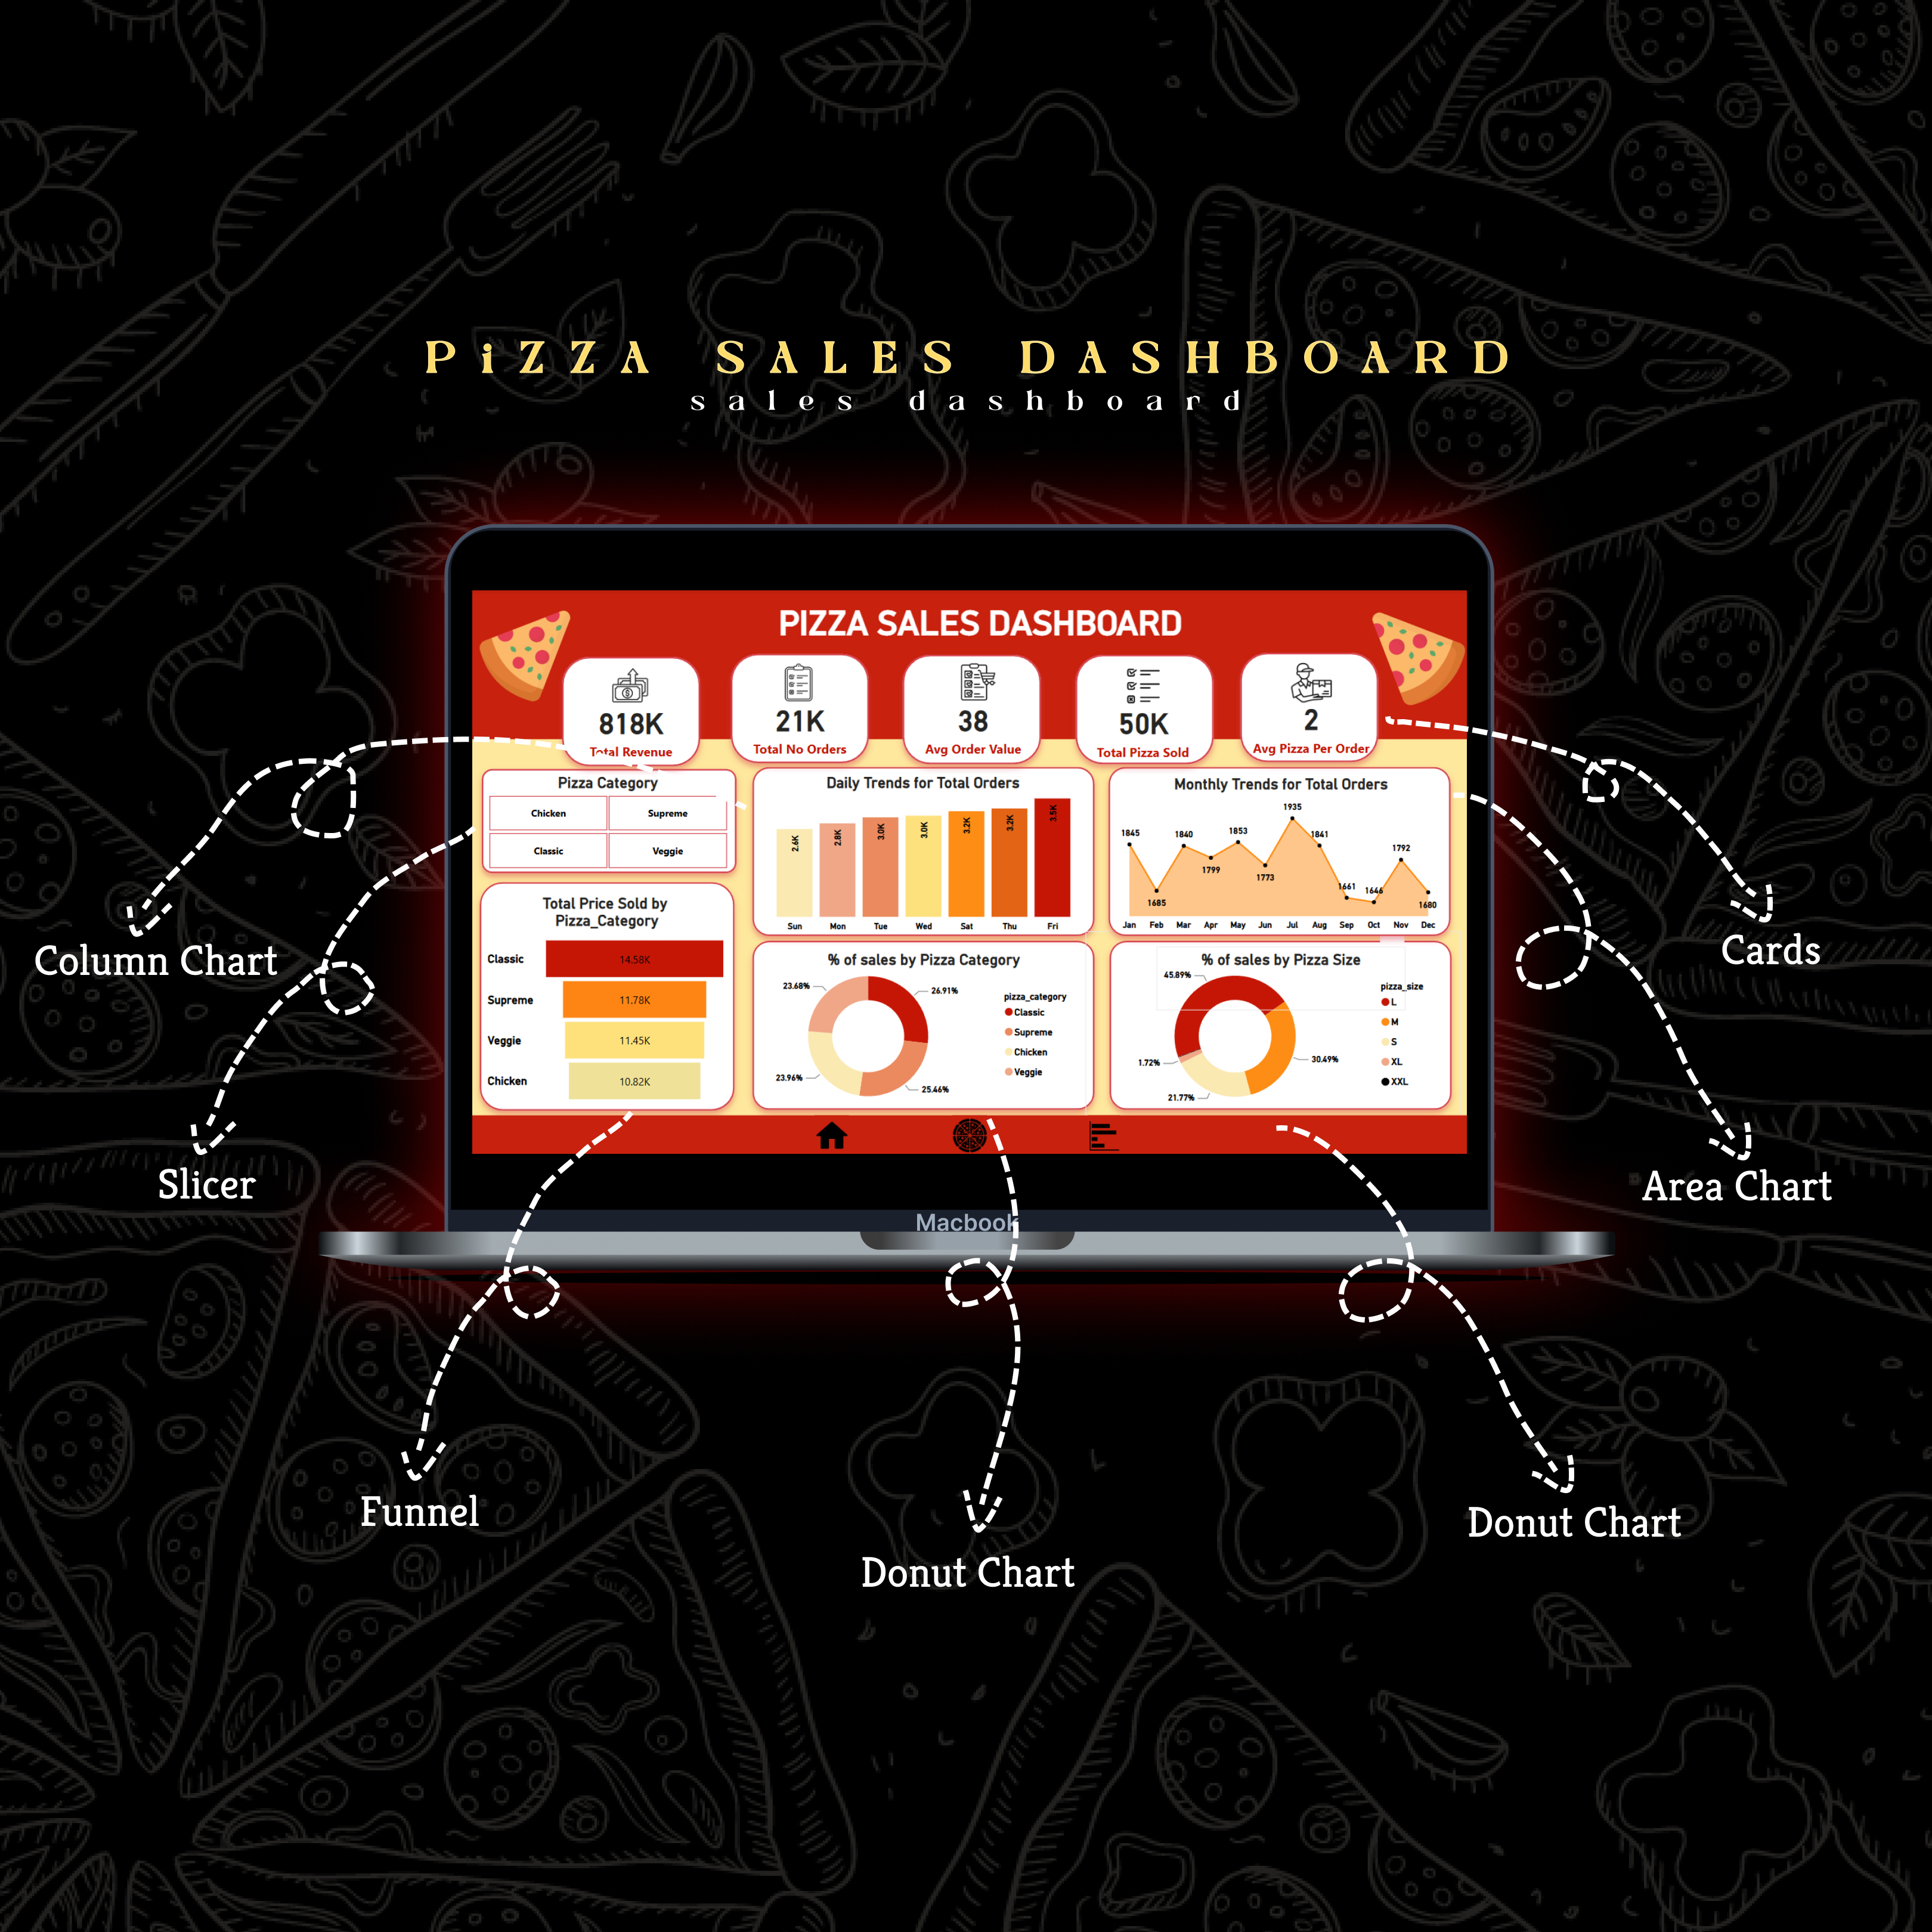

What the dashboard file says about the page in this screenshot:
{"tool":"powerbi","page":{"name":"Pizza Hut Sales Dashboard","canvas":[1280,720],"ordinal":0},"visuals":[{"type":"shape","box":[0,0,1280,190],"z":0},{"type":"shape","box":[6.9,215.9,347.8,156.7],"z":0,"group":"g5"},{"type":"image","box":[9,4.5,131.2,160],"z":1000},{"type":"group","id":"g1","title":"Group 1","box":[541.7,70,199.7,163.4],"z":1000,"group":"g14"},{"type":"shape","box":[5,359,348.3,315],"z":1000,"group":"g6"},{"type":"textbox","box":[392,12,544,66],"z":2000},{"type":"shape","box":[110,73.8,199.7,163.4],"z":2500,"group":"g3"},{"type":"group","id":"g2","title":"Group 2","box":[333.7,433.6,476.6,239.1],"z":3000},{"type":"shape","box":[970.3,68.4,199.7,163.4],"z":3500,"group":"g15"},{"type":"shape","box":[541.7,70,200,163.3],"z":3500,"group":"g1"},{"type":"shape","box":[761.9,70,199.7,163.4],"z":3500,"group":"g8"},{"type":"image","box":[1142.3,20.3,135,133.3],"z":4000},{"type":"shape","box":[323.6,69.8,199.7,163.4],"z":4000,"group":"g10"},{"type":"group","id":"g3","title":"Group 1","box":[110,73.8,200,163.3],"z":4000,"group":"g13"},{"type":"group","id":"g4","title":"Group 3","box":[351.2,212.9,458.4,239.1],"z":5000},{"type":"funnel","title":"Total Pizza Sold by Pizza_Caegory","fields":{"Y":["CountNonNull(pizza_sales.order_id)"],"Category":["pizza_sales.pizza_category"]},"box":[21.7,434.7,315,222.6],"z":5000,"group":"g6"},{"type":"card","fields":{"Values":["pizza_sales.Avg Order Value"]},"box":[564,115.4,158.9,115],"z":6000,"group":"g14"},{"type":"group","id":"g5","title":"Group 4","box":[3.4,215.9,351.3,156.7],"z":6000},{"type":"group","id":"g6","title":"Group 5","box":[5,359,348.3,315],"z":7000},{"type":"group","id":"g7","title":"Group 7","box":[786.6,433.4,476.7,240],"z":8000},{"type":"group","id":"g8","title":"Group 1","box":[761.9,70,199.7,163.4],"z":9000,"group":"g12"},{"type":"card","fields":{"Values":["pizza_sales.Total Orders"]},"box":[130.4,121.2,157.4,113.5],"z":9000,"group":"g13"},{"type":"group","id":"g9","title":"Group 8","box":[803.6,212.9,458.4,239.1],"z":9000},{"type":"group","id":"g10","title":"Group 9","box":[323.6,69.8,199.7,163.4],"z":10000},{"type":"image","box":[612.5,86.6,75.7,59],"z":10000,"group":"g14"},{"type":"textbox","box":[20.1,381.4,316.2,80.2],"z":10000,"group":"g6"},{"type":"group","id":"g11","title":"Group 10","box":[970.3,68.4,200,163.3],"z":11000},{"type":"image","box":[175.8,90.9,66.6,62],"z":11000,"group":"g13"},{"type":"shape","box":[351.2,212.9,458.4,239.1],"z":11000,"group":"g4"},{"type":"group","id":"g12","title":"Group 11","box":[761.9,70,200,165],"z":12000},{"type":"group","id":"g13","title":"Group 12","box":[110,73.8,200,163.3],"z":13000},{"type":"shape","box":[803.6,212.9,458.4,239.1],"z":13000,"group":"g9"},{"type":"group","id":"g14","title":"Group 13","box":[541.7,70,198.3,163.3],"z":14000},{"type":"card","fields":{"Values":["pizza_sales.Total No Orders"]},"box":[343,116.9,160.4,115],"z":14000,"group":"g10"},{"type":"shape","box":[0,667.5,1280,52.5],"z":15000},{"type":"card","fields":{"Values":["pizza_sales.Total Pizza Sold"]},"box":[780.1,119.9,158.9,115],"z":16000,"group":"g12"},{"type":"actionButton","box":[443.3,667.8,43.3,52.2],"z":16000},{"type":"slicer","fields":{"Values":["pizza_sales.pizza_category"]},"box":[3.4,254.6,351,105.9],"z":17000,"group":"g5"},{"type":"actionButton","box":[618.3,668.3,43.3,51.7],"z":17000},{"type":"columnChart","fields":{"Category":["pizza_sales.Days_Name"],"Y":["pizza_sales.Total No Orders"]},"box":[366.3,231.1,428.2,210.3],"z":18000,"group":"g4"},{"type":"actionButton","box":[790,667.8,40,52.2],"z":18000},{"type":"textbox","box":[420.8,228,319.2,39.3],"z":19000,"group":"g4"},{"type":"shape","box":[804.8,433.4,458.4,239.1],"z":21000,"group":"g7"},{"type":"shape","box":[351.9,433.6,458.4,239.1],"z":22000,"group":"g16"},{"type":"donutChart","fields":{"Y":["Sum(pizza_sales.total_price)"],"Category":["pizza_sales.pizza_size"]},"box":[786.6,460.6,456.9,211.8],"z":22000,"group":"g7"},{"type":"textbox","box":[877.4,453.3,316.2,80.2],"z":23000,"group":"g7"},{"type":"textbox","box":[21.6,228.9,316.2,80.2],"z":24000,"group":"g5"},{"type":"donutChart","fields":{"Category":["pizza_sales.pizza_category"],"Y":["Sum(pizza_sales.total_price)"]},"box":[333.7,460.8,456.9,211.8],"z":25000,"group":"g16"},{"type":"areaChart","fields":{"Y":["pizza_sales.Total No Orders"],"Category":["pizza_sales.Month_Name"]},"box":[823.3,252.2,417.6,187.6],"z":26000,"group":"g9"},{"type":"textbox","box":[424.5,453.5,316.2,80.2],"z":26000,"group":"g16"},{"type":"textbox","box":[876.2,229.5,316.2,34.8],"z":27000,"group":"g9"},{"type":"group","id":"g15","title":"Group 1","box":[970.3,68.4,200,163.3],"z":28000,"group":"g11"},{"type":"card","fields":{"Values":["pizza_sales.Avg Pizza Per Order"]},"box":[992,115.1,160,115],"z":29000,"group":"g11"},{"type":"image","box":[1040.3,86.7,63.3,63.3],"z":31000,"group":"g11"},{"type":"image","box":[391.4,85.1,60.5,66.6],"z":34000,"group":"g10"},{"type":"image","box":[829,90.7,61.7,61.7],"z":35000,"group":"g12"},{"type":"group","id":"g16","title":"Group 6","box":[333.7,433.6,476.6,239.1],"z":35004,"group":"g2"}]}

Visuals, with their boxes on the page's 1280x720 design canvas (x1, y1, x2, y2). These are canvas units, not pixel positions in the 1932x1932 screenshot, which may show the page scaled, cropped or inside an application window:
shape: (left=0, top=0, right=1280, bottom=190)
shape: (left=7, top=216, right=355, bottom=373)
image: (left=9, top=4, right=140, bottom=164)
"Group 1" group: (left=542, top=70, right=741, bottom=233)
shape: (left=5, top=359, right=353, bottom=674)
textbox: (left=392, top=12, right=936, bottom=78)
shape: (left=110, top=74, right=310, bottom=237)
"Group 2" group: (left=334, top=434, right=810, bottom=673)
shape: (left=970, top=68, right=1170, bottom=232)
shape: (left=542, top=70, right=742, bottom=233)
shape: (left=762, top=70, right=962, bottom=233)
image: (left=1142, top=20, right=1277, bottom=154)
shape: (left=324, top=70, right=523, bottom=233)
"Group 1" group: (left=110, top=74, right=310, bottom=237)
"Group 3" group: (left=351, top=213, right=810, bottom=452)
"Total Pizza Sold by Pizza_Caegory" funnel: (left=22, top=435, right=337, bottom=657)
card - pizza_sales.Avg Order Value: (left=564, top=115, right=723, bottom=230)
"Group 4" group: (left=3, top=216, right=355, bottom=373)
"Group 5" group: (left=5, top=359, right=353, bottom=674)
"Group 7" group: (left=787, top=433, right=1263, bottom=673)
"Group 1" group: (left=762, top=70, right=962, bottom=233)
card - pizza_sales.Total Orders: (left=130, top=121, right=288, bottom=235)
"Group 8" group: (left=804, top=213, right=1262, bottom=452)
"Group 9" group: (left=324, top=70, right=523, bottom=233)
image: (left=612, top=87, right=688, bottom=146)
textbox: (left=20, top=381, right=336, bottom=462)
"Group 10" group: (left=970, top=68, right=1170, bottom=232)
image: (left=176, top=91, right=242, bottom=153)
shape: (left=351, top=213, right=810, bottom=452)
"Group 11" group: (left=762, top=70, right=962, bottom=235)
"Group 12" group: (left=110, top=74, right=310, bottom=237)
shape: (left=804, top=213, right=1262, bottom=452)
"Group 13" group: (left=542, top=70, right=740, bottom=233)
card - pizza_sales.Total No Orders: (left=343, top=117, right=503, bottom=232)
shape: (left=0, top=668, right=1280, bottom=720)
card - pizza_sales.Total Pizza Sold: (left=780, top=120, right=939, bottom=235)
actionButton: (left=443, top=668, right=487, bottom=720)
slicer - pizza_sales.pizza_category: (left=3, top=255, right=354, bottom=360)
actionButton: (left=618, top=668, right=662, bottom=720)
columnChart - pizza_sales.Days_Name x pizza_sales.Total No Orders: (left=366, top=231, right=794, bottom=441)
actionButton: (left=790, top=668, right=830, bottom=720)
textbox: (left=421, top=228, right=740, bottom=267)
shape: (left=805, top=433, right=1263, bottom=672)
shape: (left=352, top=434, right=810, bottom=673)
donutChart - Sum(pizza_sales.total_price) x pizza_sales.pizza_size: (left=787, top=461, right=1244, bottom=672)
textbox: (left=877, top=453, right=1194, bottom=534)
textbox: (left=22, top=229, right=338, bottom=309)
donutChart - pizza_sales.pizza_category x Sum(pizza_sales.total_price): (left=334, top=461, right=791, bottom=673)
areaChart - pizza_sales.Total No Orders x pizza_sales.Month_Name: (left=823, top=252, right=1241, bottom=440)
textbox: (left=424, top=454, right=741, bottom=534)
textbox: (left=876, top=230, right=1192, bottom=264)
"Group 1" group: (left=970, top=68, right=1170, bottom=232)
card - pizza_sales.Avg Pizza Per Order: (left=992, top=115, right=1152, bottom=230)
image: (left=1040, top=87, right=1104, bottom=150)
image: (left=391, top=85, right=452, bottom=152)
image: (left=829, top=91, right=891, bottom=152)
"Group 6" group: (left=334, top=434, right=810, bottom=673)
